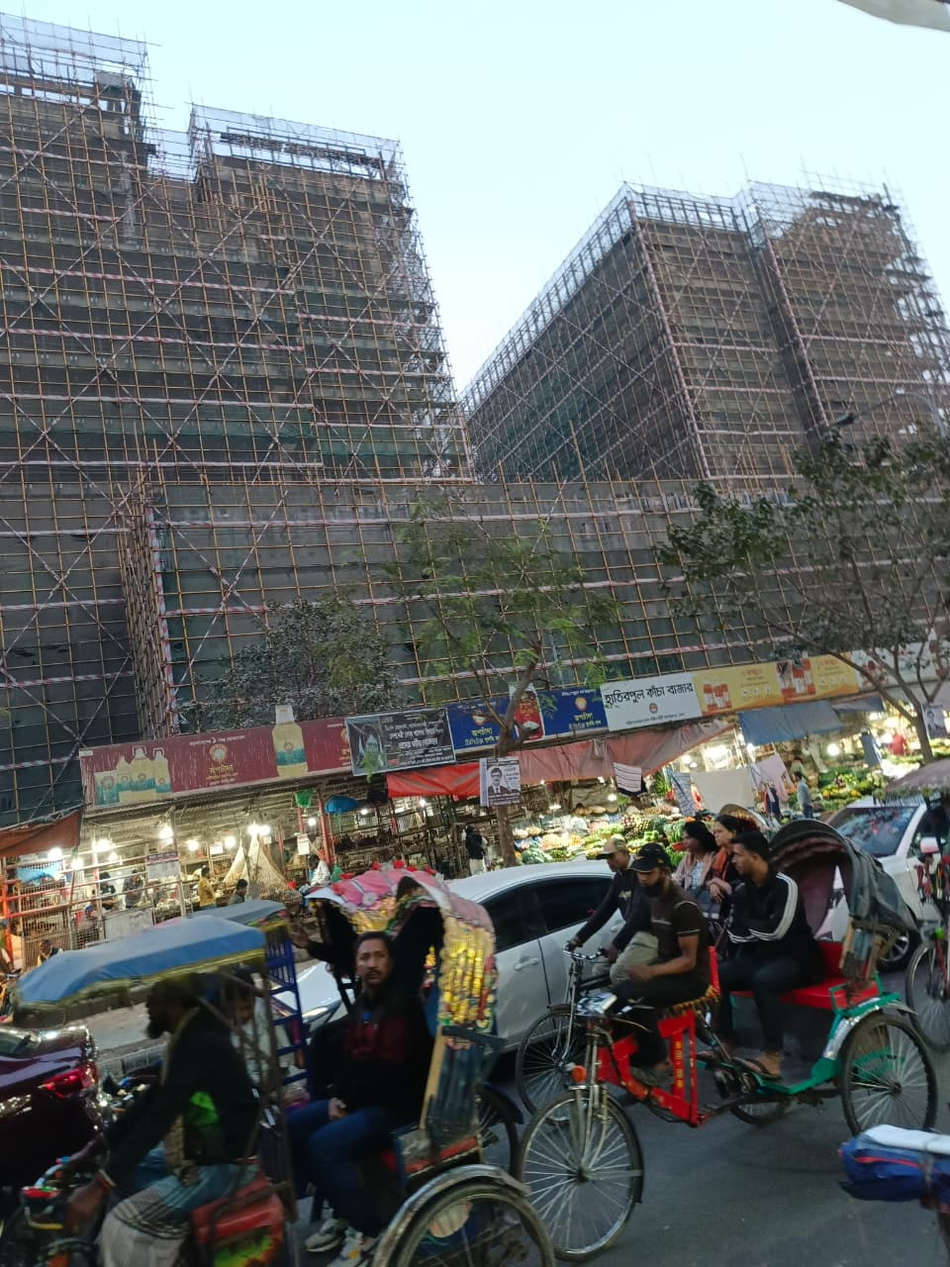auto-ricksaw: (37, 834, 509, 1238), (547, 799, 881, 1254)
private car: (413, 859, 655, 1082), (821, 768, 950, 949)
